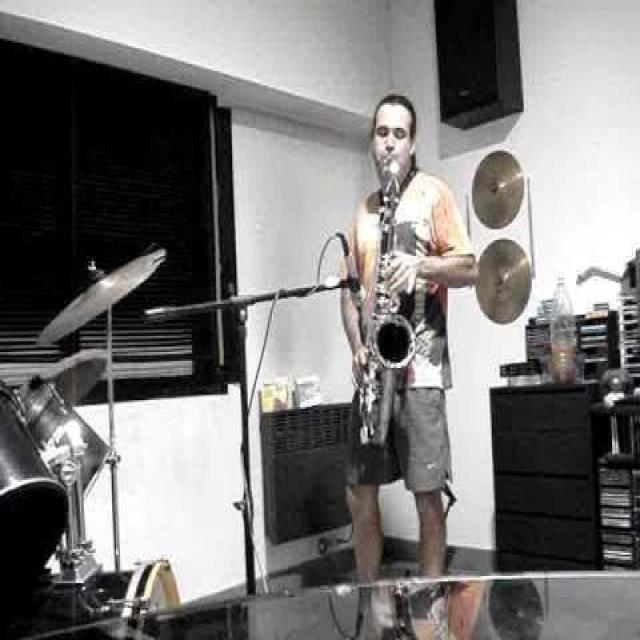drums: (0, 217, 187, 603)
saxophone: (355, 168, 417, 462)
